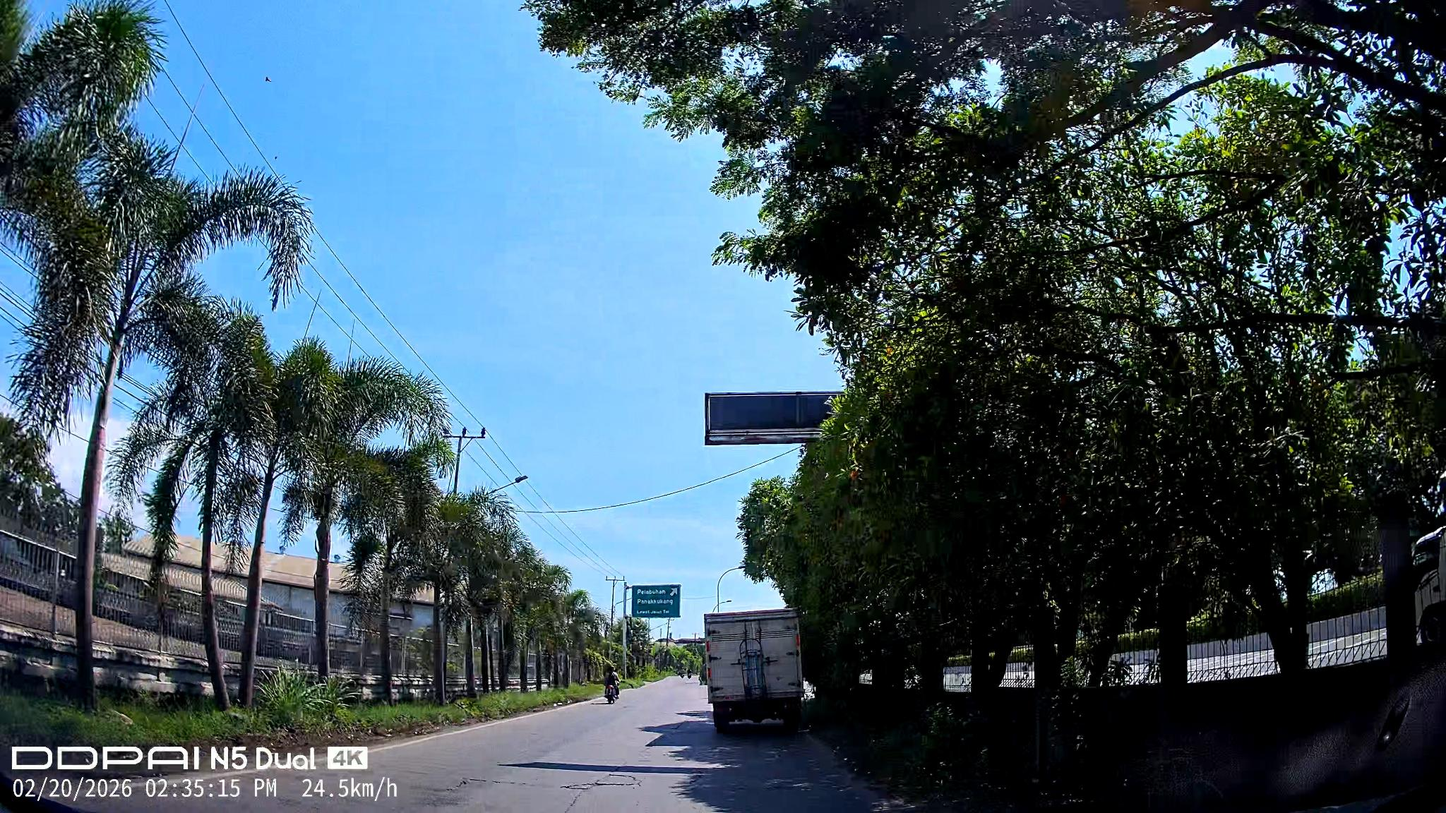rambu_teks: (632, 584, 683, 618)
